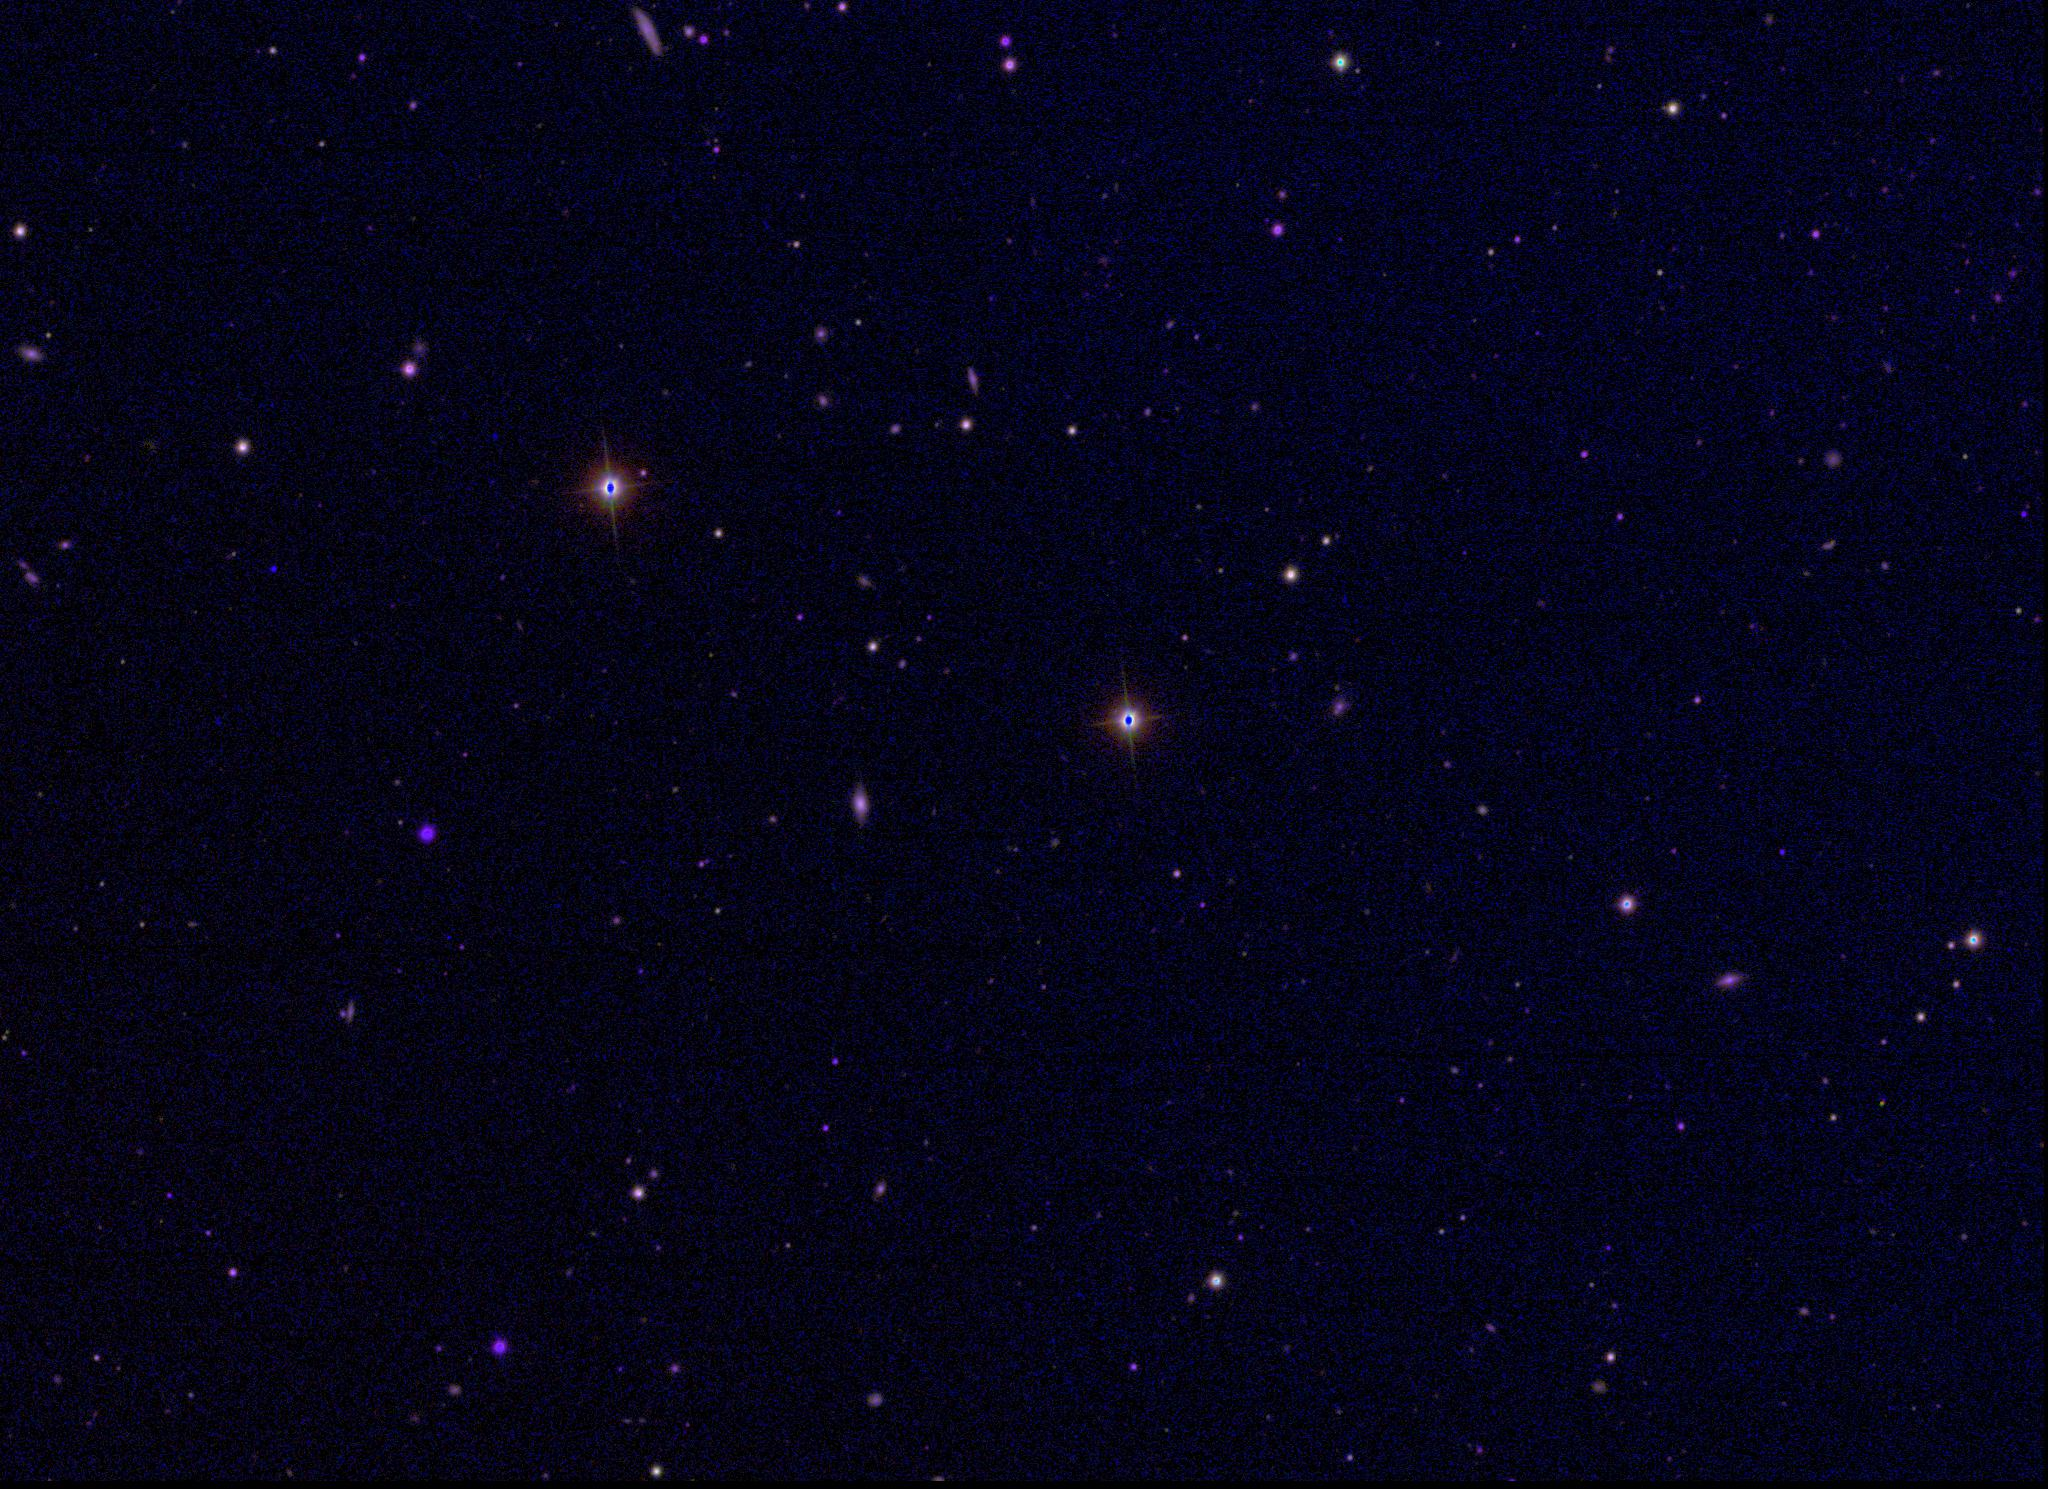L: (267, 562, 281, 576)
